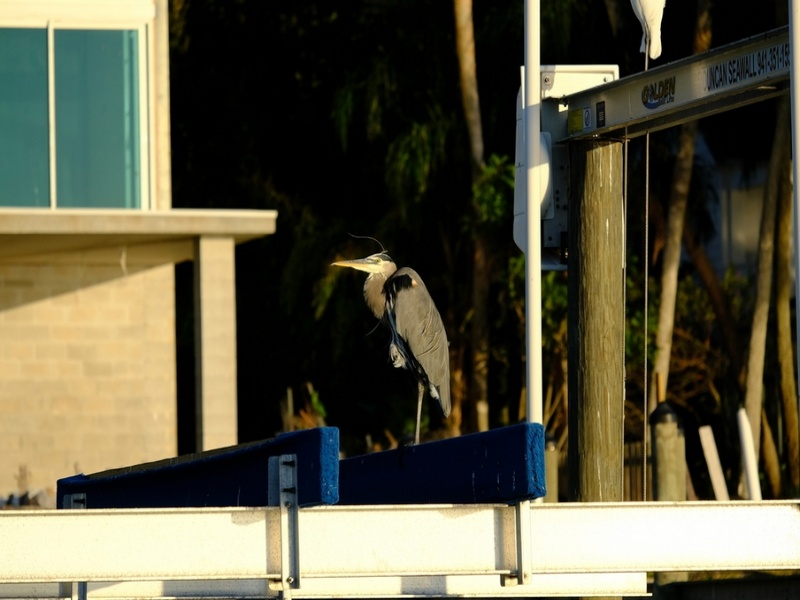heron: (329, 246, 455, 448)
